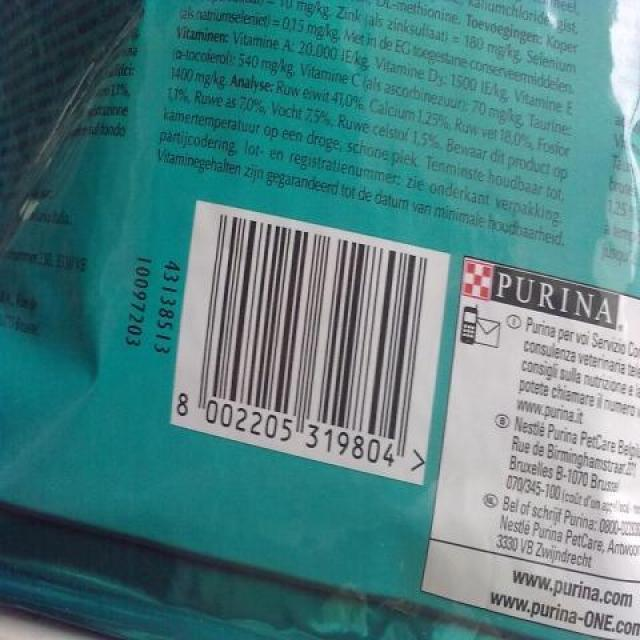Barcode: (171, 198, 450, 486)
